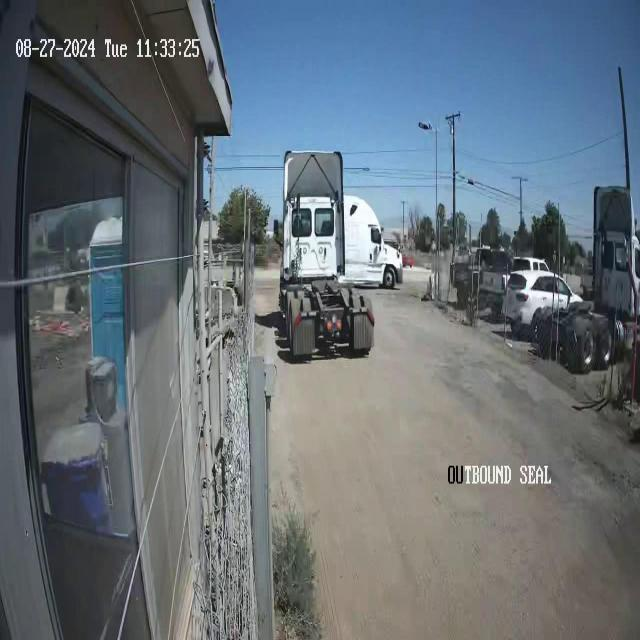TRUCK_OUT: (276, 150, 369, 359)
